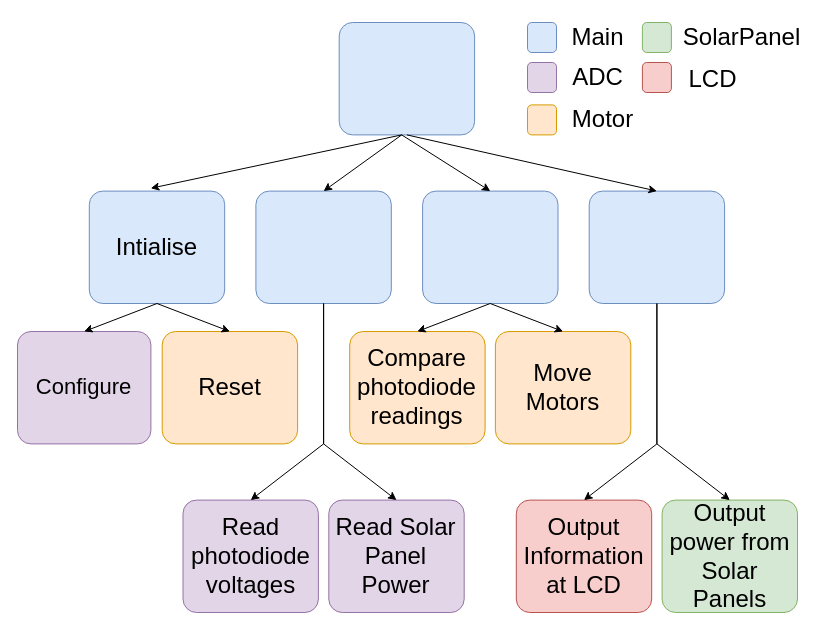
This 829x631 diagram has some shape labels left out. Here are the shapes that lost their labels. From the top down, the centre of each, then its label:
At (406,78): "Solar Tracker".
At (323,247): "Input".
At (490,247): "Motor Movement".
At (656,247): "Output".
